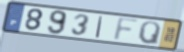3: (70, 13, 91, 36)
8: (24, 8, 44, 32)
9: (46, 9, 68, 36)
F: (112, 16, 142, 42)
I: (95, 15, 105, 39)
Q: (137, 20, 162, 46)
